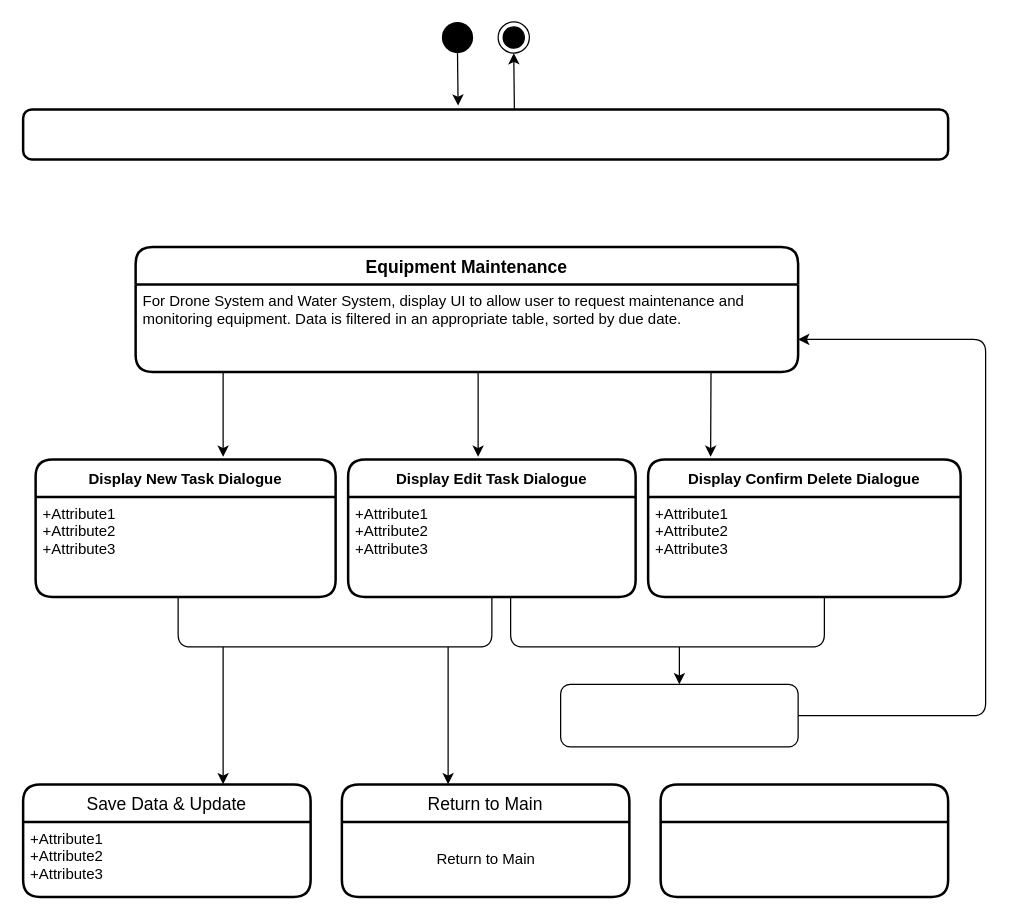
Some shapes in this 1018 by 920 pixel diagram are drawn without their labels. Each missing label, with the centre of its shape:
Delete Data & Update: point 804,840
If no data is selected, send prompt indicating and return to main: point 678,715
